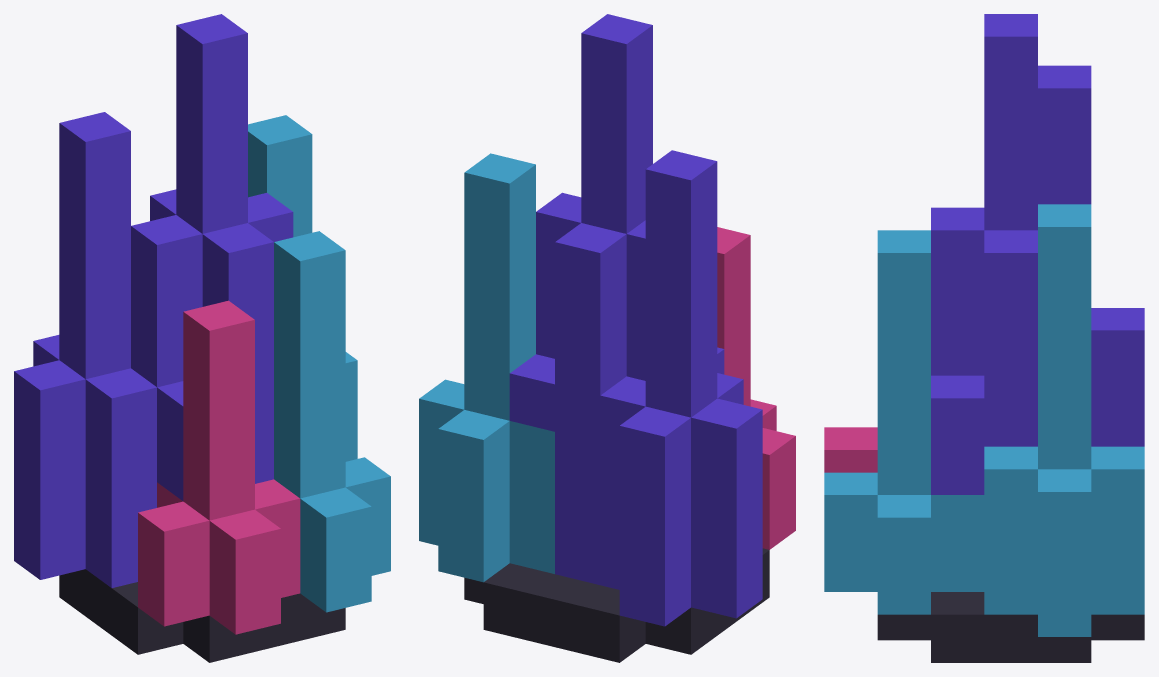
Rendered from crystal-cluster.glb.
3 views of the same model, side by side, from view 1: azimuth 30°, elevation 25°; view 2: azimuth 150°, elevation 25°; view 3: azimuth 270°, elevation 25° (orthographic). The views are drawn at different scales.
Parts seen in each view (by area): view 1: crystal_cluster; view 2: crystal_cluster; view 3: crystal_cluster.
Part boxes in pixels (x1,y1,x2,y2): crystal_cluster: [14, 14, 390, 662]; crystal_cluster: [419, 14, 795, 662]; crystal_cluster: [824, 14, 1144, 662].
Size of the model in its own units: 0.7 by 1.2 by 0.6.
